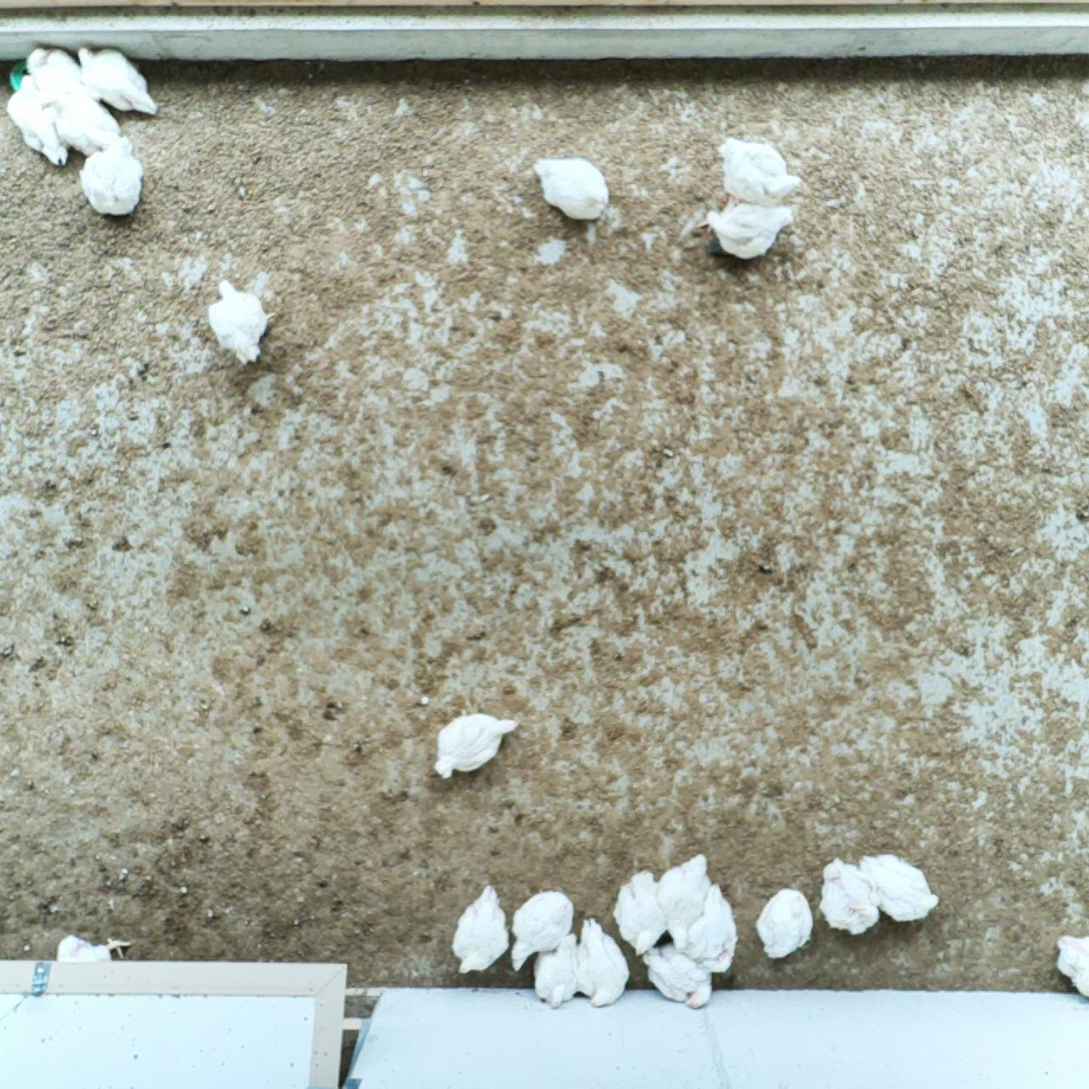chicken: (426, 706, 522, 796), (73, 41, 163, 119), (201, 275, 279, 365), (714, 131, 805, 206), (697, 199, 799, 265), (448, 879, 514, 979), (852, 850, 941, 924), (78, 128, 150, 219), (4, 75, 71, 171), (656, 852, 716, 957), (507, 886, 576, 976), (530, 153, 615, 224), (573, 915, 634, 1012), (641, 938, 716, 1016), (814, 855, 884, 938), (609, 864, 669, 960), (683, 877, 741, 976), (747, 882, 817, 963), (48, 84, 123, 156), (530, 928, 585, 1011), (1052, 930, 1089, 1000), (53, 931, 132, 963), (21, 45, 81, 86)
